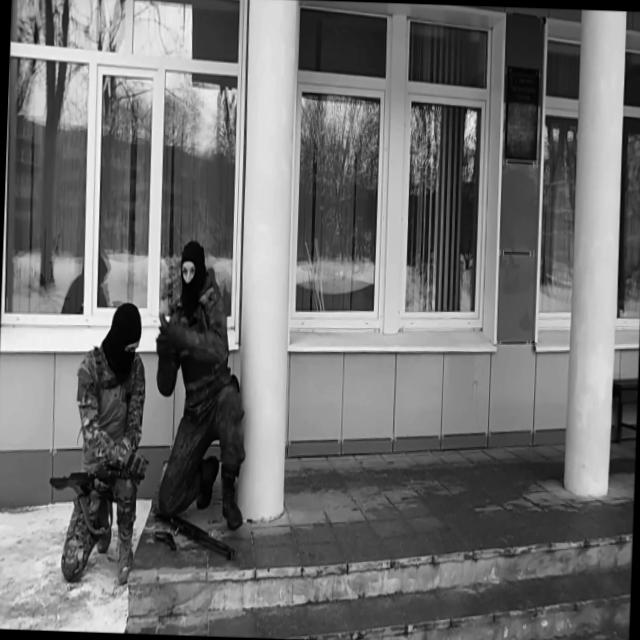gun: (149, 496, 241, 562), (48, 461, 146, 506), (153, 526, 178, 556)
person with a gun: (144, 233, 249, 552), (46, 298, 154, 586)
